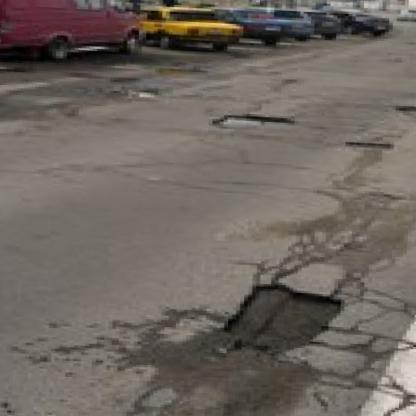pothole: (220, 282, 342, 357), (209, 114, 295, 130), (346, 140, 398, 152), (396, 103, 416, 120)
